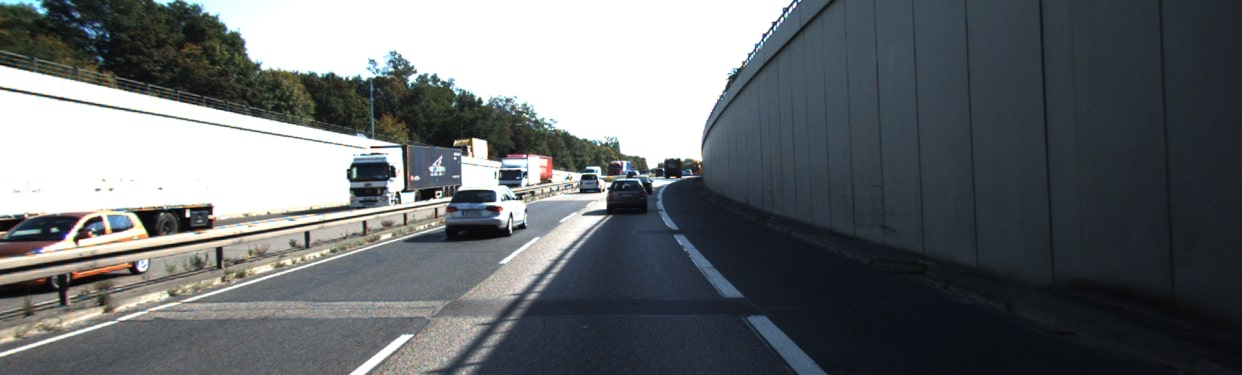car: (1, 205, 141, 295), (343, 142, 461, 210), (447, 178, 542, 237), (601, 168, 657, 221), (501, 156, 571, 187), (574, 172, 600, 193)
